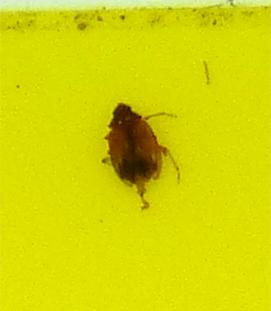Coleoptera: (100, 100, 171, 211)
